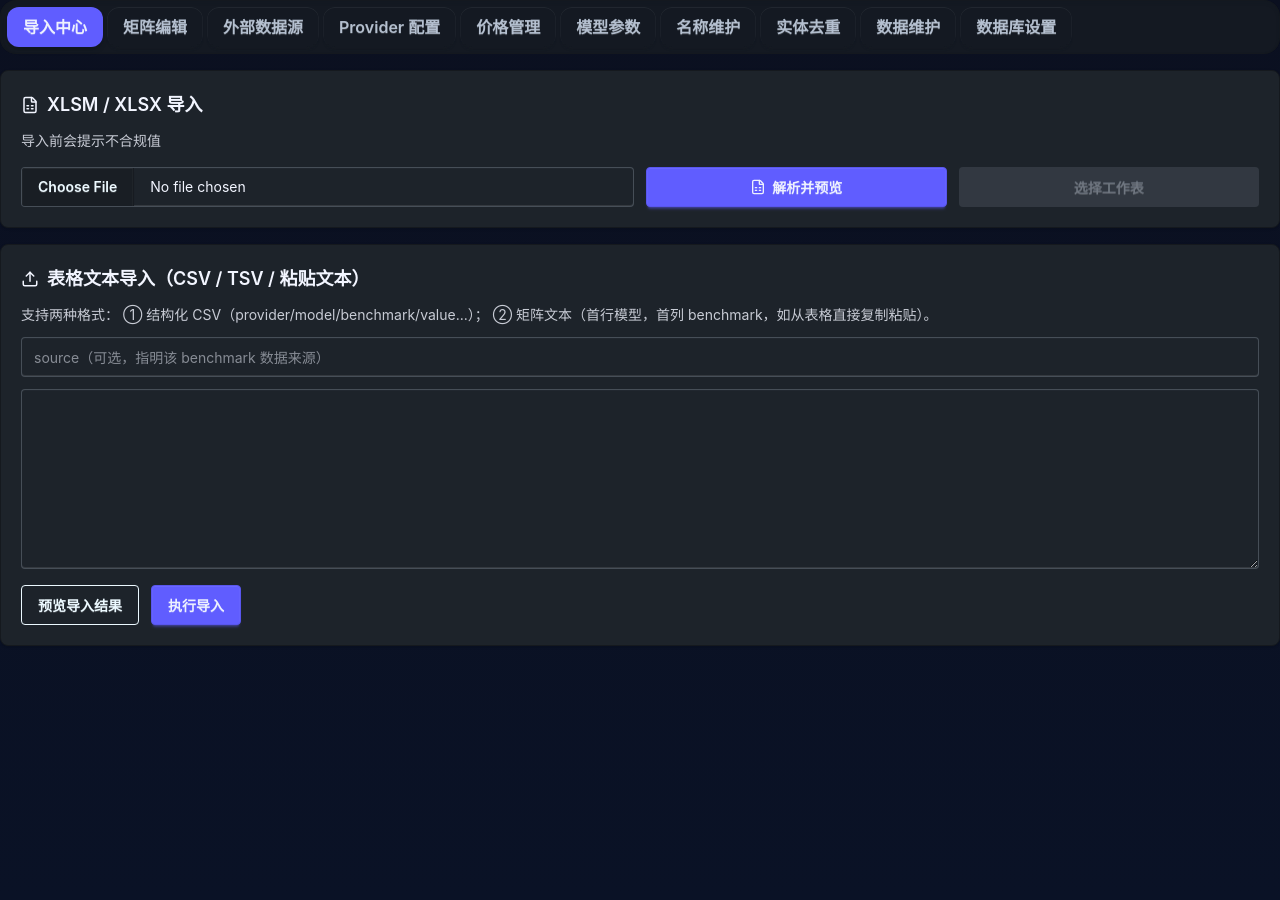
Test case: AdminConsole records tab › 编辑已有单元格后保存会提交草稿 payload
Click the tab "矩阵编辑". click: click(155, 27)
box: [107,7,203,47]
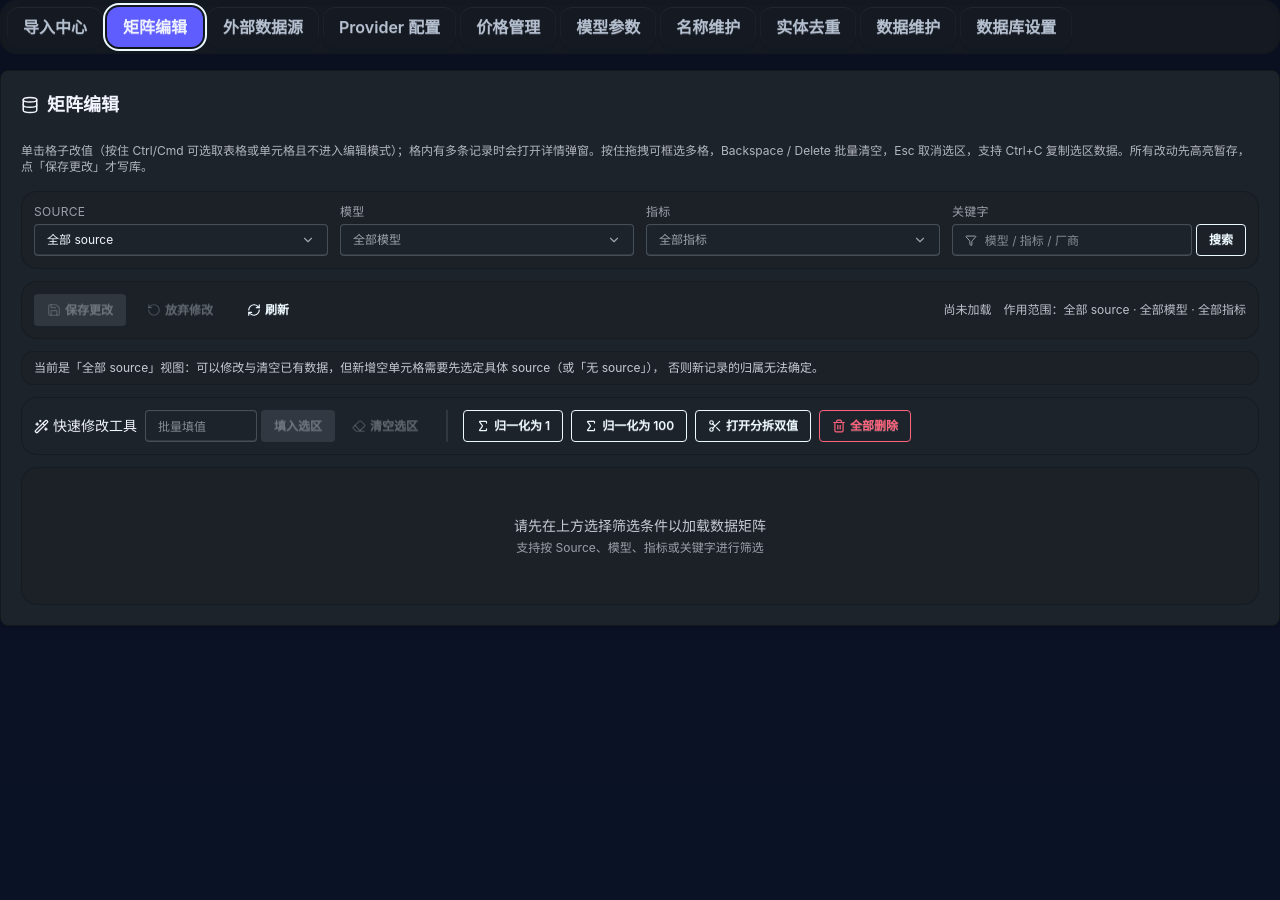
Click the button with aria-label "Source 筛选". click: click(80, 240)
box: [34,224,328,256]
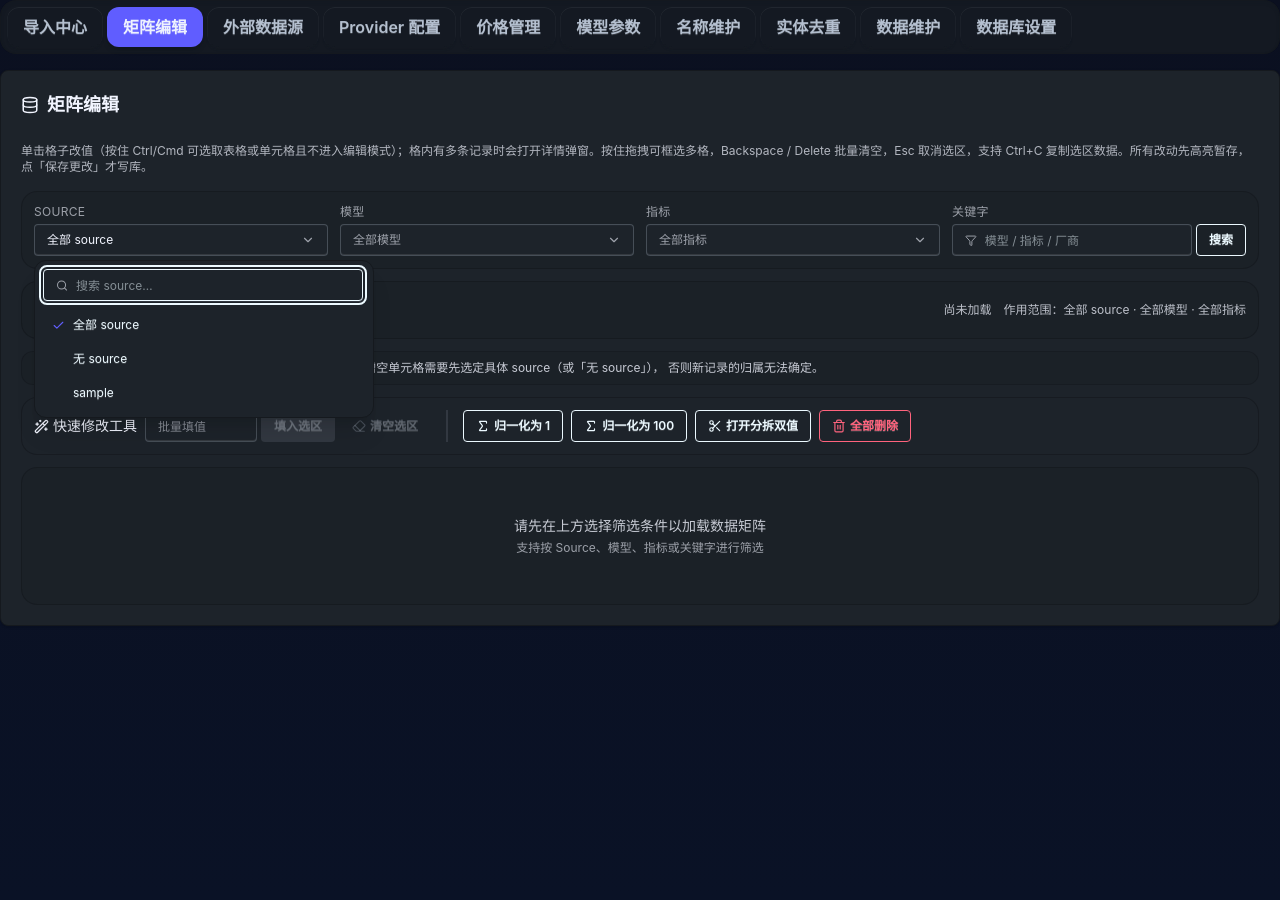
Click the 2nd button "全部 source". click: click(106, 324)
box: [43,309,365,341]
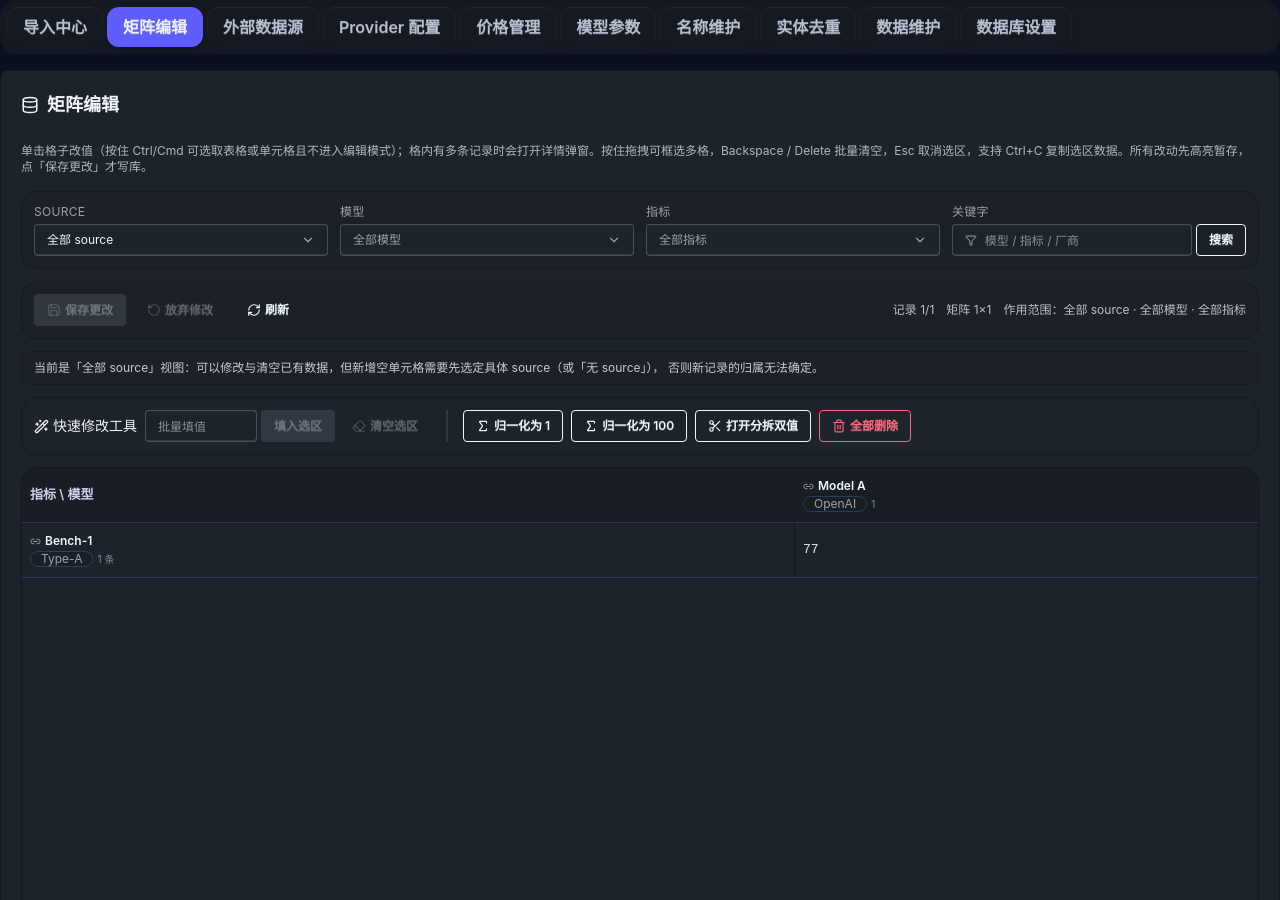
expect the cell with test id "record-cell-1-11" reads "77": met, box [803,542,819,557]
Press the mouse on the cell with test id "record-cell-1-11" at (1026, 550), box [794,522,1258,578]
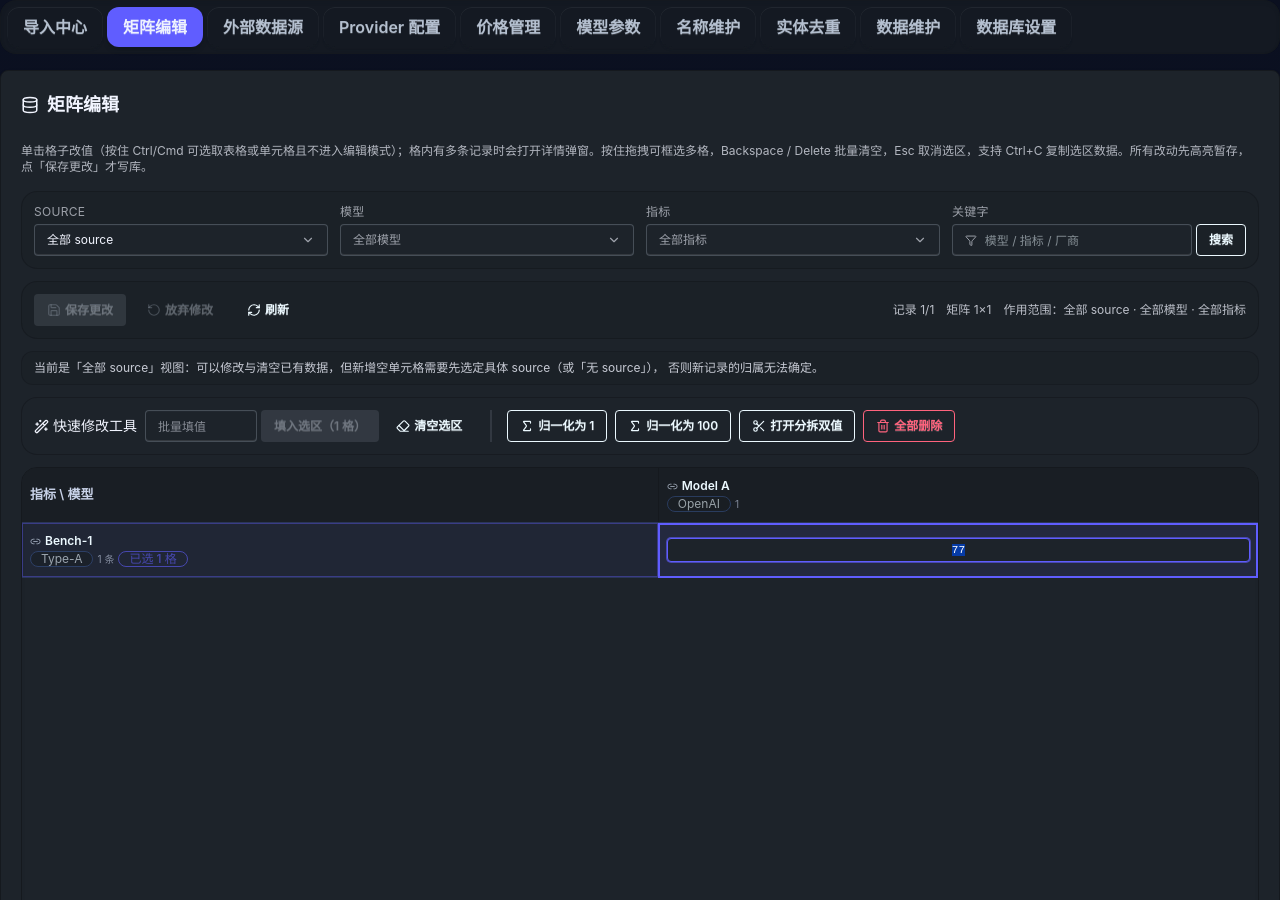
Replace the text in the field named "单元格数值" with "88". click: (958, 550)
box: [667,538,1250,562]
Press Enter in the field named "单元格数值", box [667,538,1250,562]
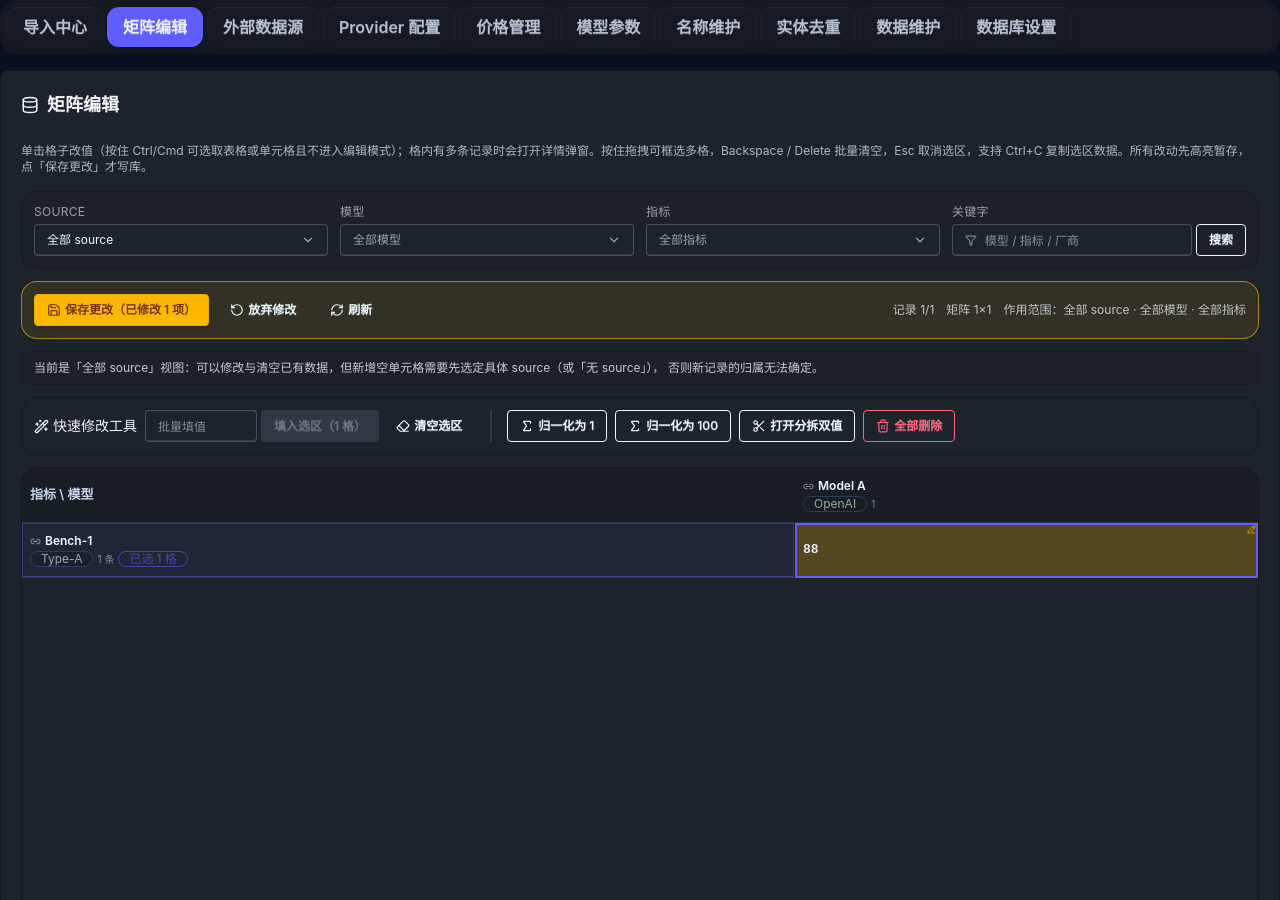
expect the button "保存更改（已修改 1 项）" is enabled: met
Click the button "保存更改（已修改 1 项）". click: click(122, 310)
box: [34,294,209,326]
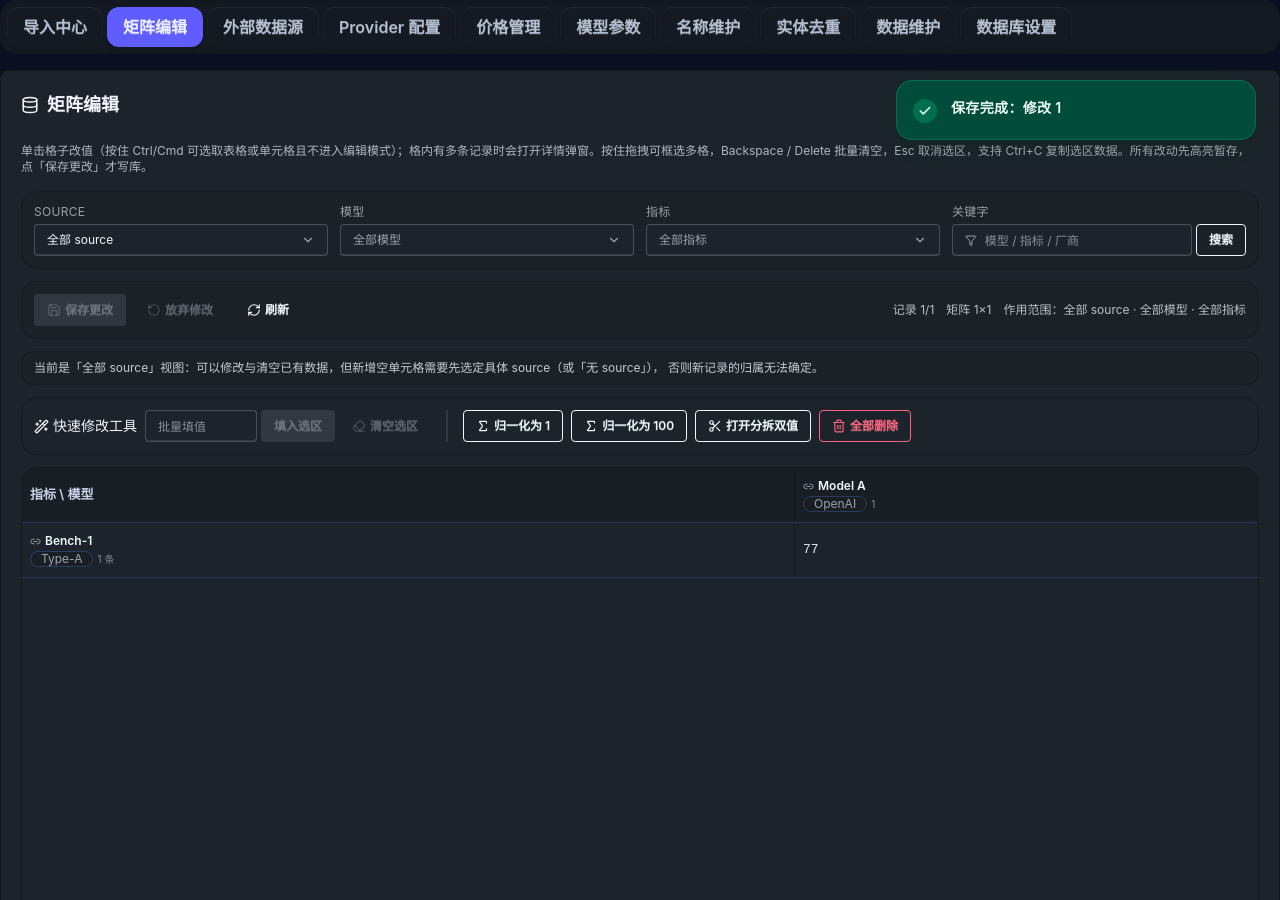
expect the text "保存完成：修改 1" is shown: met, box [951,99,1062,116]
